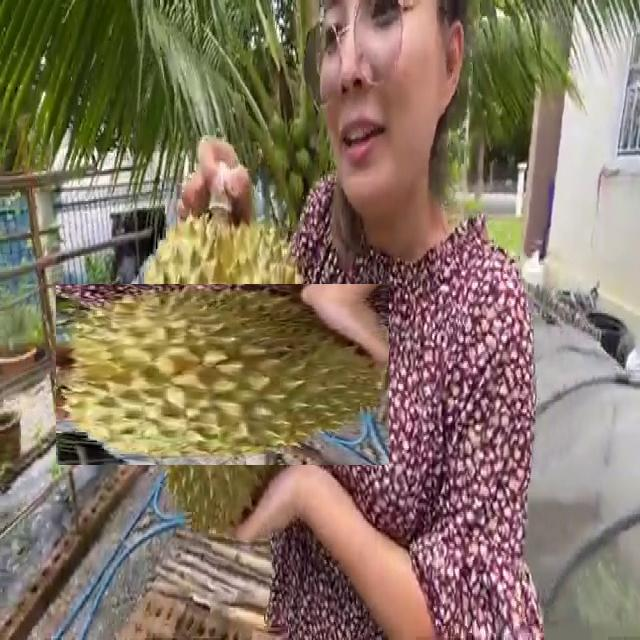durian: (94, 246, 351, 503)
